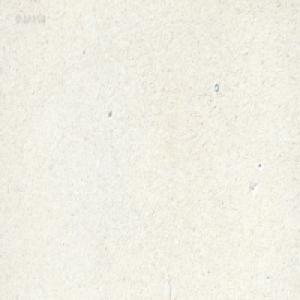Washer: (213, 80, 219, 91)
